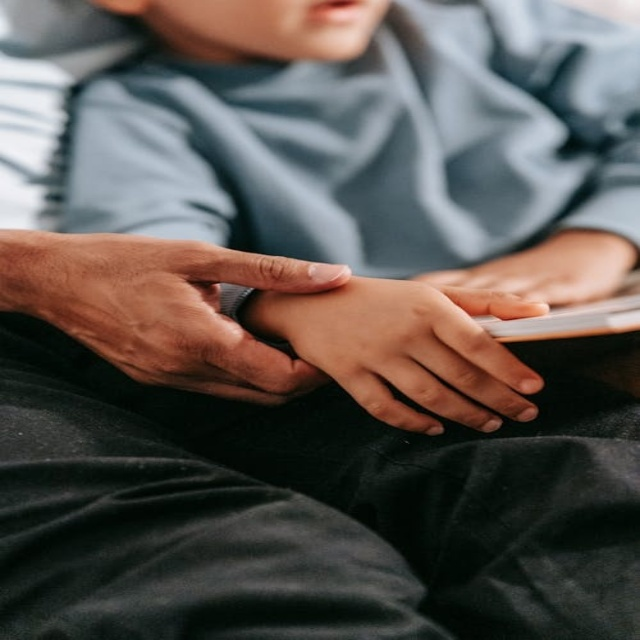Sin_guantes: (7, 227, 354, 408), (259, 251, 552, 445), (421, 231, 639, 311)
Sin_mascara: (306, 0, 361, 19)
